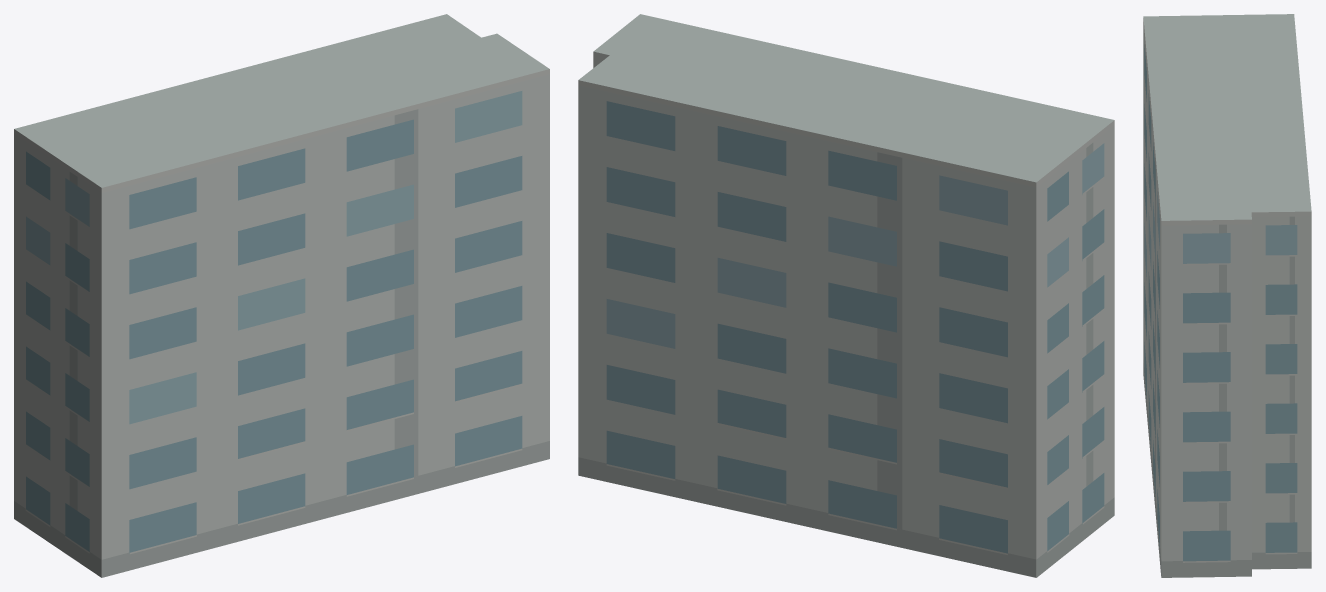
File: survey-upis-32629985.glb
3 views of the same model, side by side, from view 1: azimuth 30°, elevation 25°; view 2: azimuth 150°, elevation 25°; view 3: azimuth 270°, elevation 25° (orthographic). The views are drawn at different scales.
Visible parts, largest first — view 1: survey-upis-32629985.tmp; view 2: survey-upis-32629985.tmp; view 3: survey-upis-32629985.tmp.
Boxes of the visible parts, x1,y1,x2,y2 form: survey-upis-32629985.tmp: (14,14,549,577); survey-upis-32629985.tmp: (578,14,1114,577); survey-upis-32629985.tmp: (1143,14,1311,577).
Bounding box in the file's own units: 22.76 × 18.3 × 7.83.
